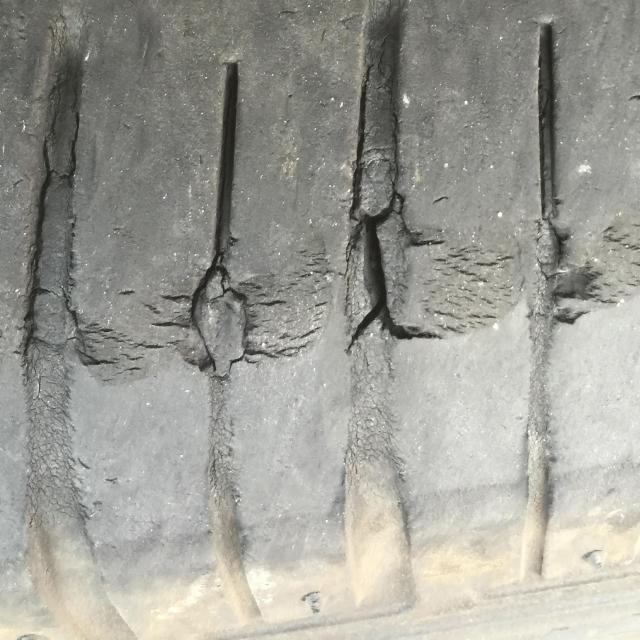Cracks: (0, 21, 640, 547)
